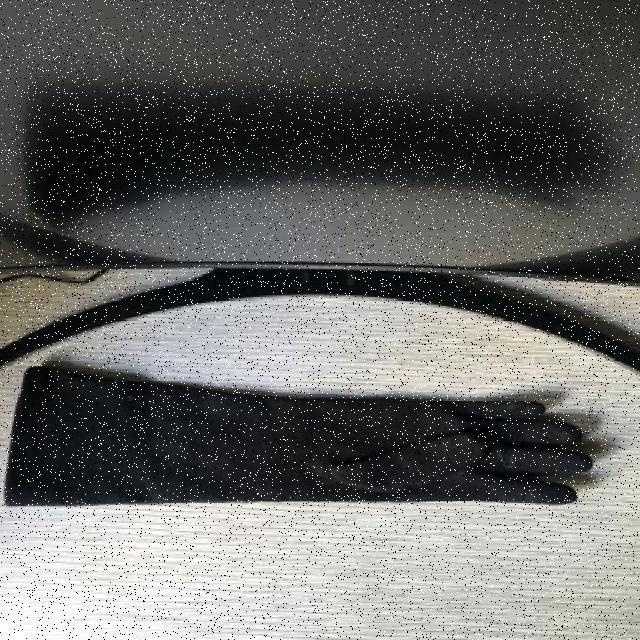Guantes: (17, 359, 617, 535)
